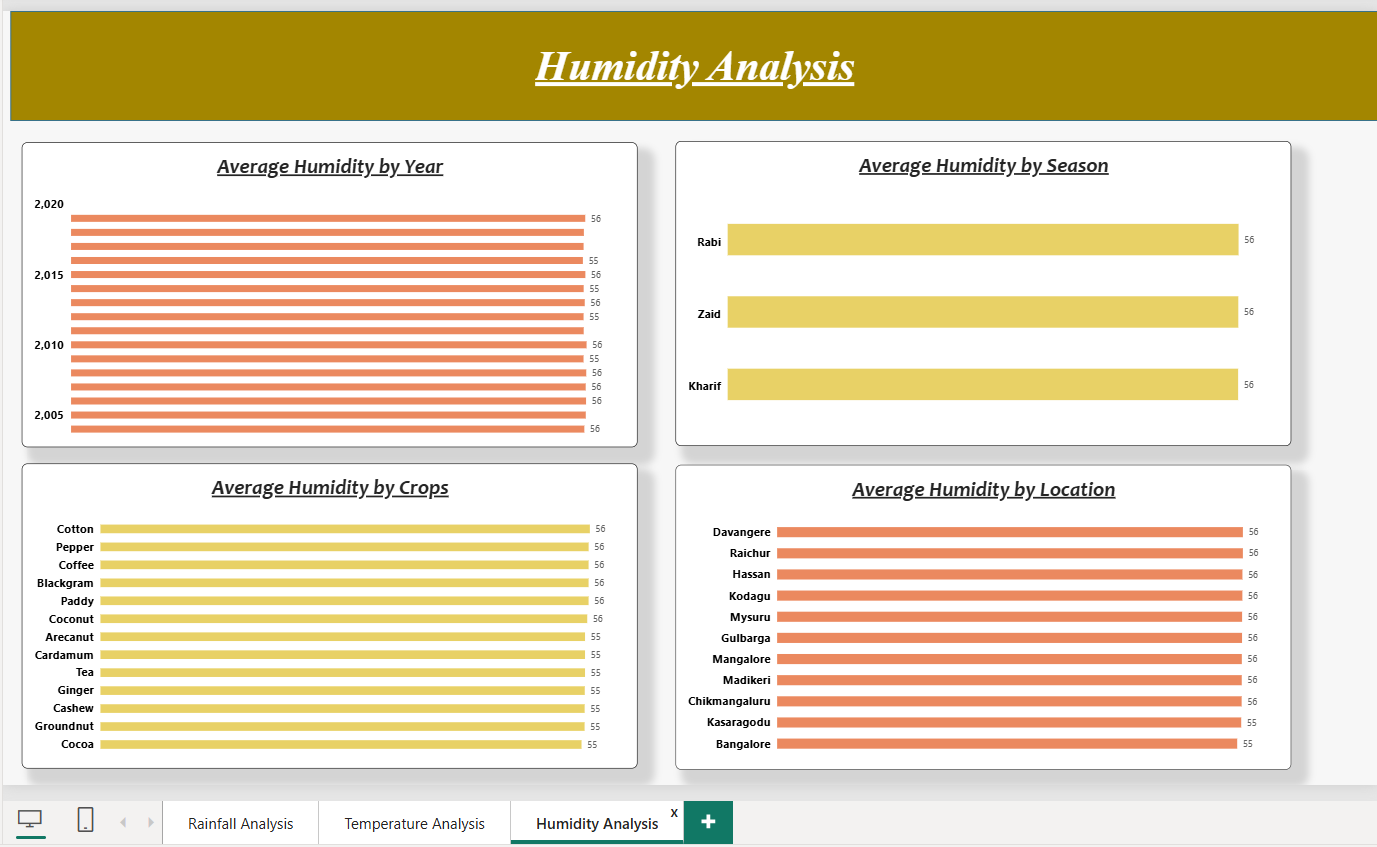

The page's visual inventory and layout, read from the dashboard file:
{"tool":"powerbi","page":{"name":"Humidity Analysis","canvas":[1920,1080],"ordinal":2},"visuals":[{"type":"shape","box":[10.5,0,1909.9,153.5],"z":0},{"type":"barChart","title":"Average Humidity by Year","fields":{"Category":["AGRICULTURE.YEAR"],"Y":["Avg(AGRICULTURE.HUMIDITY)"]},"box":[25.4,183.1,859.3,425.4],"z":1000},{"type":"barChart","title":"Average Humidity by Season","fields":{"Category":["AGRICULTURE.SEASON"],"Y":["Avg(AGRICULTURE.HUMIDITY)"]},"box":[939,181.4,859.3,425.4],"z":2000},{"type":"barChart","title":"Average Humidity by Crops","fields":{"Category":["AGRICULTURE.CROPS"],"Y":["Avg(AGRICULTURE.HUMIDITY)"]},"box":[25.4,632.2,859.3,425.4],"z":3000},{"type":"barChart","title":"Average Humidity by Location","fields":{"Category":["AGRICULTURE.LOCATION"],"Y":["Avg(AGRICULTURE.HUMIDITY)"]},"box":[939,633.9,859.3,425.4],"z":4000}]}

Visuals, with their boxes on the page's 1920x1080 design canvas (x1, y1, x2, y2). These are canvas units, not pixel positions in the 1377x847 screenshot, which may show the page scaled, cropped or inside an application window:
shape: bbox(10, 0, 1920, 154)
"Average Humidity by Year" barChart: bbox(25, 183, 885, 608)
"Average Humidity by Season" barChart: bbox(939, 181, 1798, 607)
"Average Humidity by Crops" barChart: bbox(25, 632, 885, 1058)
"Average Humidity by Location" barChart: bbox(939, 634, 1798, 1059)
